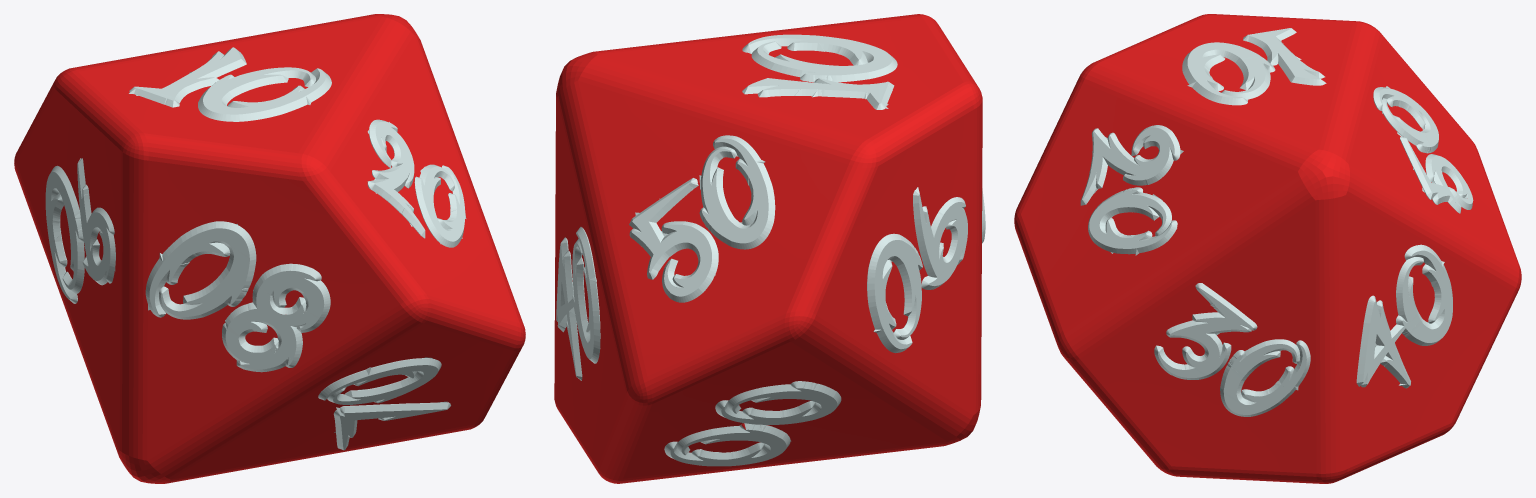
File: D10_3D_Red.glb
3 views of the same model, side by side, from view 1: azimuth 30°, elevation 25°; view 2: azimuth 150°, elevation 25°; view 3: azimuth 270°, elevation 25° (orthographic). The views are drawn at different scales.
Parts seen in each view (by area): view 1: d10; view 2: d10; view 3: d10.
Part boxes in pixels (box(x1,y1,x2,y2)): d10: box(14, 14, 525, 483); d10: box(554, 14, 985, 483); d10: box(1014, 14, 1521, 483).
Bounding box in the file's own units: 1.38 × 1.35 × 1.87.
